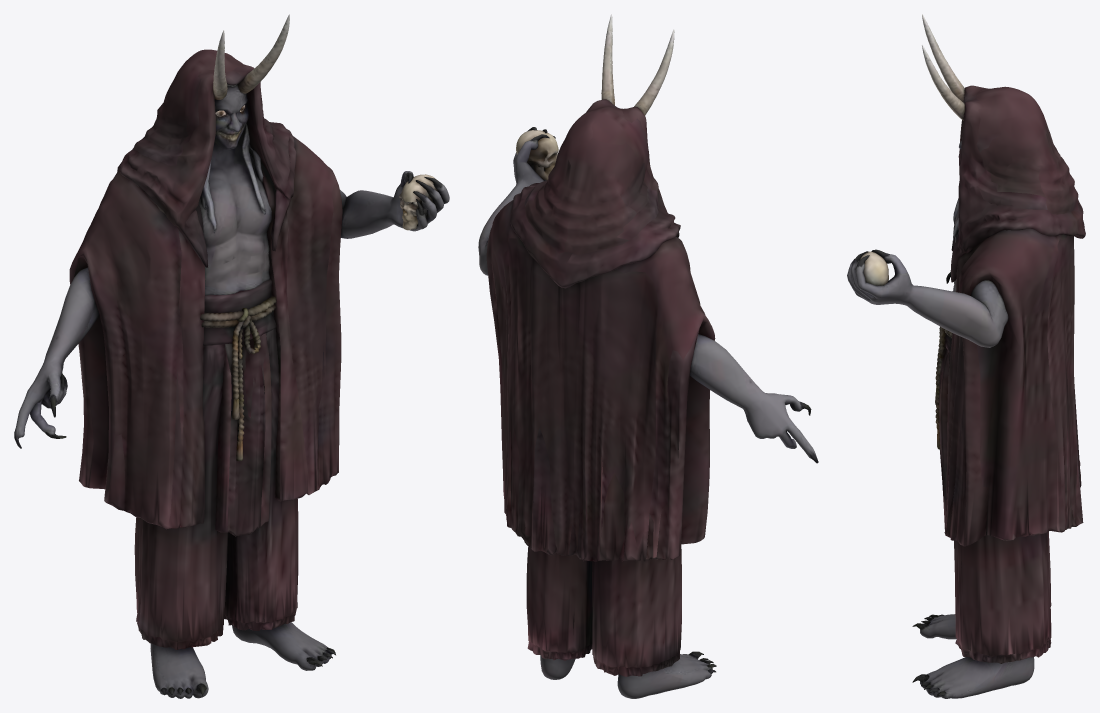
The model's file is MZ4250 - Oni Male 2025.glb.
3 renders of one model, left to right at view 1: azimuth 30°, elevation 25°; view 2: azimuth 150°, elevation 25°; view 3: azimuth 270°, elevation 25°, orthographic. The views are drawn at different scales.
Visible parts, largest first — view 1: Body.001; view 2: Body.001; view 3: Body.001.
Boxes of the visible parts, x1,y1,x2,y2 form: Body.001: [14, 14, 449, 698]; Body.001: [478, 14, 818, 698]; Body.001: [847, 14, 1085, 698].
Size of the model in its own units: 108 by 183 by 62.49.
3 materials, 3 textured.
